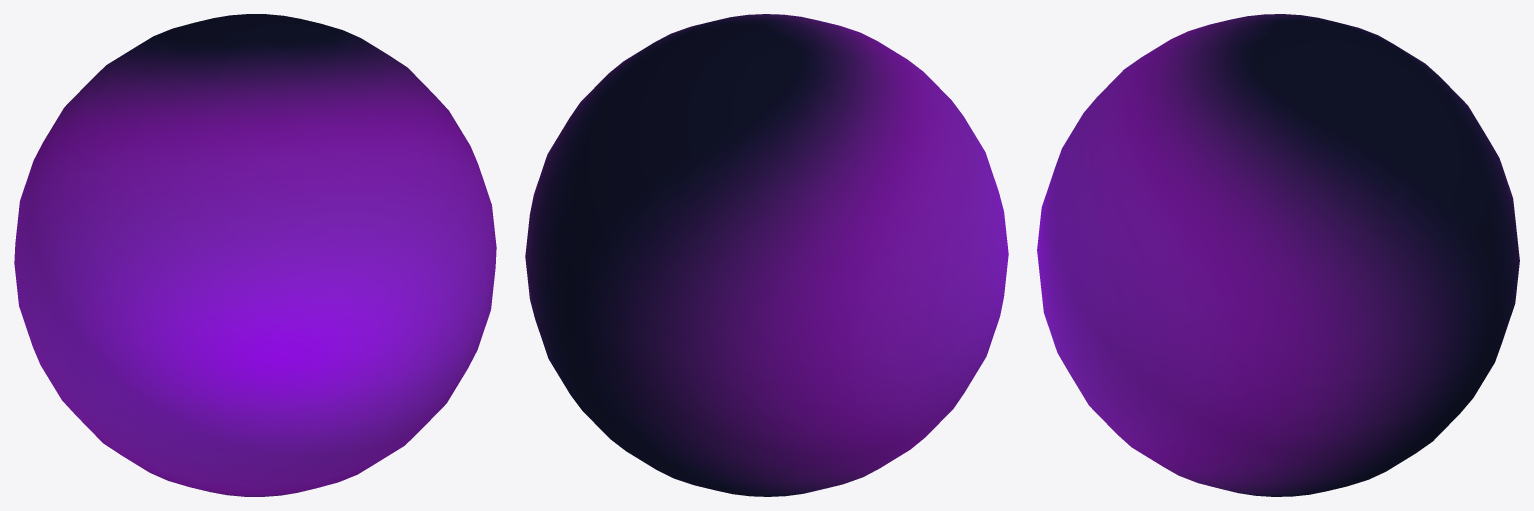
Rendered from wwwunderkammer_AhmedAnsari_PurpleSky.glb.
The picture shows the model from 3 angles, left to right: view 1: azimuth 30°, elevation 25°; view 2: azimuth 150°, elevation 25°; view 3: azimuth 270°, elevation 25°; orthographic projection.
Visible parts, largest first — view 1: Sphere; view 2: Sphere; view 3: Sphere.
Boxes of the visible parts, x1,y1,x2,y2 form: Sphere: (14,14,496,496); Sphere: (525,14,1008,496); Sphere: (1037,14,1519,496).
Size of the model in its own units: 268 by 269 by 268.
1 material, 1 textured.
